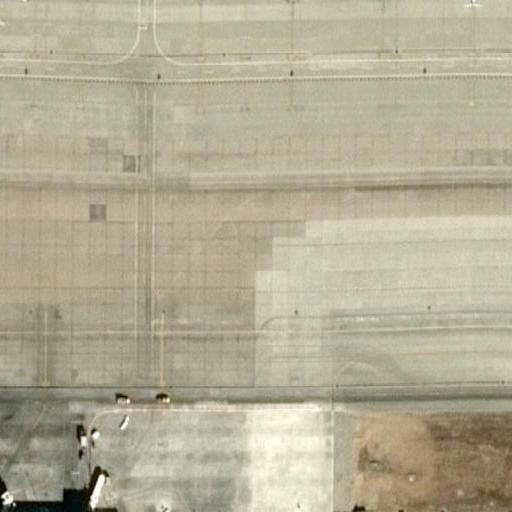Aircraft: (0, 2, 18, 34)
